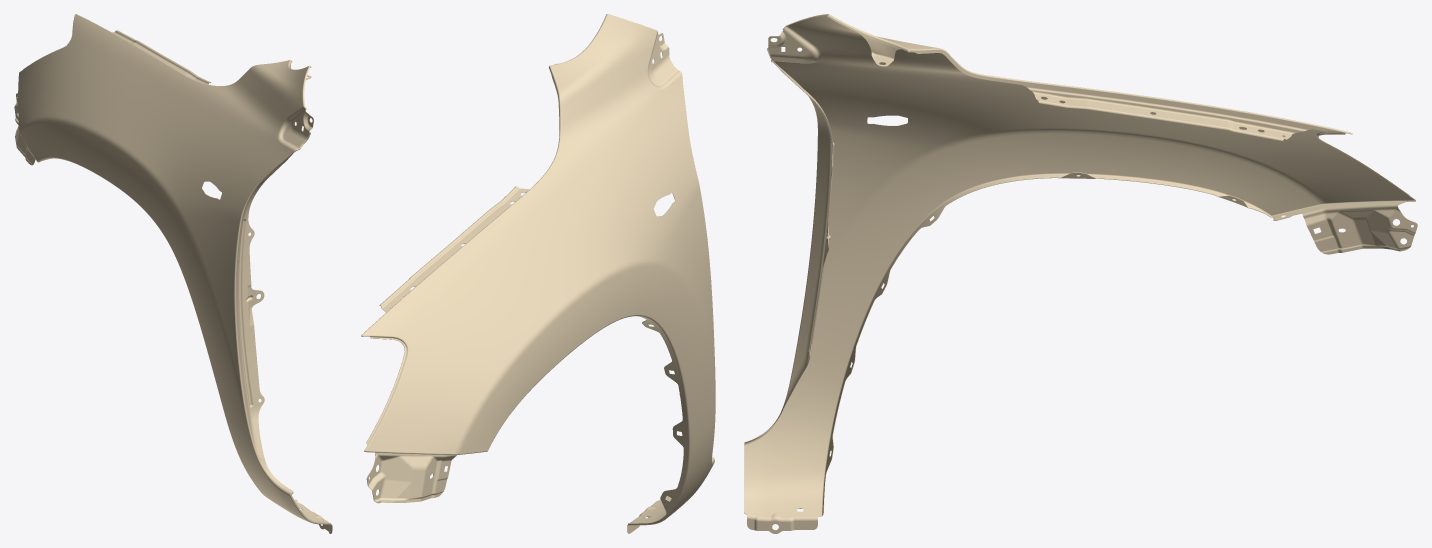
File: RAV4-zuoyiziban.glb
3 views of the same model, side by side, from view 1: azimuth 30°, elevation 25°; view 2: azimuth 150°, elevation 25°; view 3: azimuth 270°, elevation 25° (orthographic). The views are drawn at different scales.
Parts seen in each view (by area): view 1: Face (×25); view 2: Face (×30); view 3: Face (×22).
Part boxes in pixels (x1,y1,x2,y2): Face (×25): (18,20,308,503); Face (×30): (363,15,715,511); Face (×22): (745,36,1414,505).
Bounding box in the file's own units: 0.2403 × 0.915 × 1.06.
